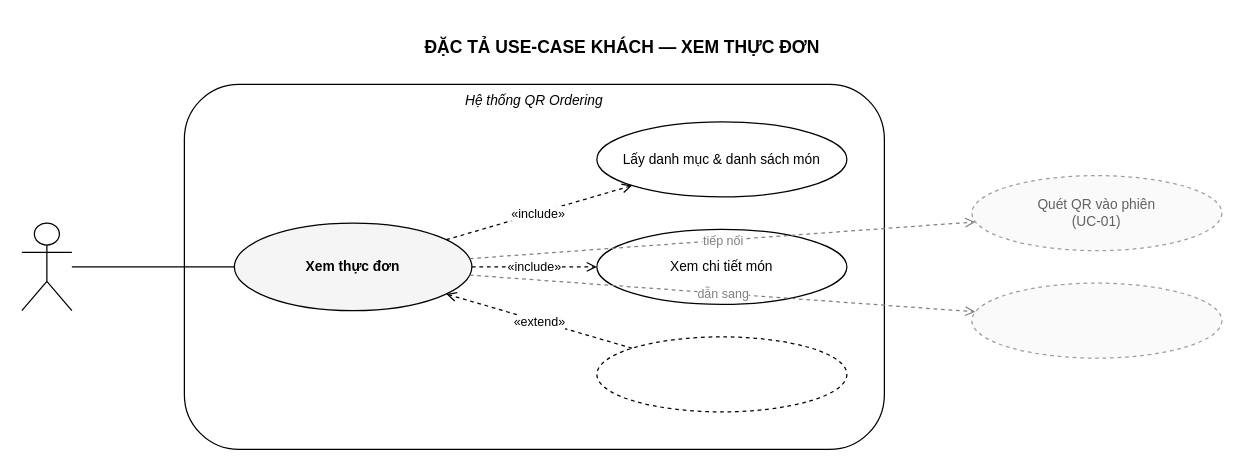
This 1244x471 diagram has some shape labels left out. Each missing label, with the centre of its shape:
"Cập nhật trạng thái còn/hết (Quản lý — realtime)" belongs at pixel 721 374.
"Khách" belongs at pixel 46 266.
"Đặt món (UC-03)" belongs at pixel 1096 320.
